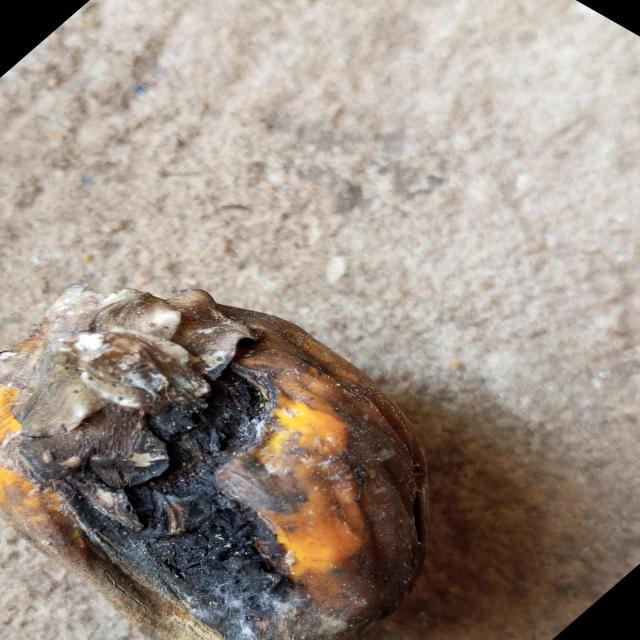damaged: (0, 285, 428, 640)
